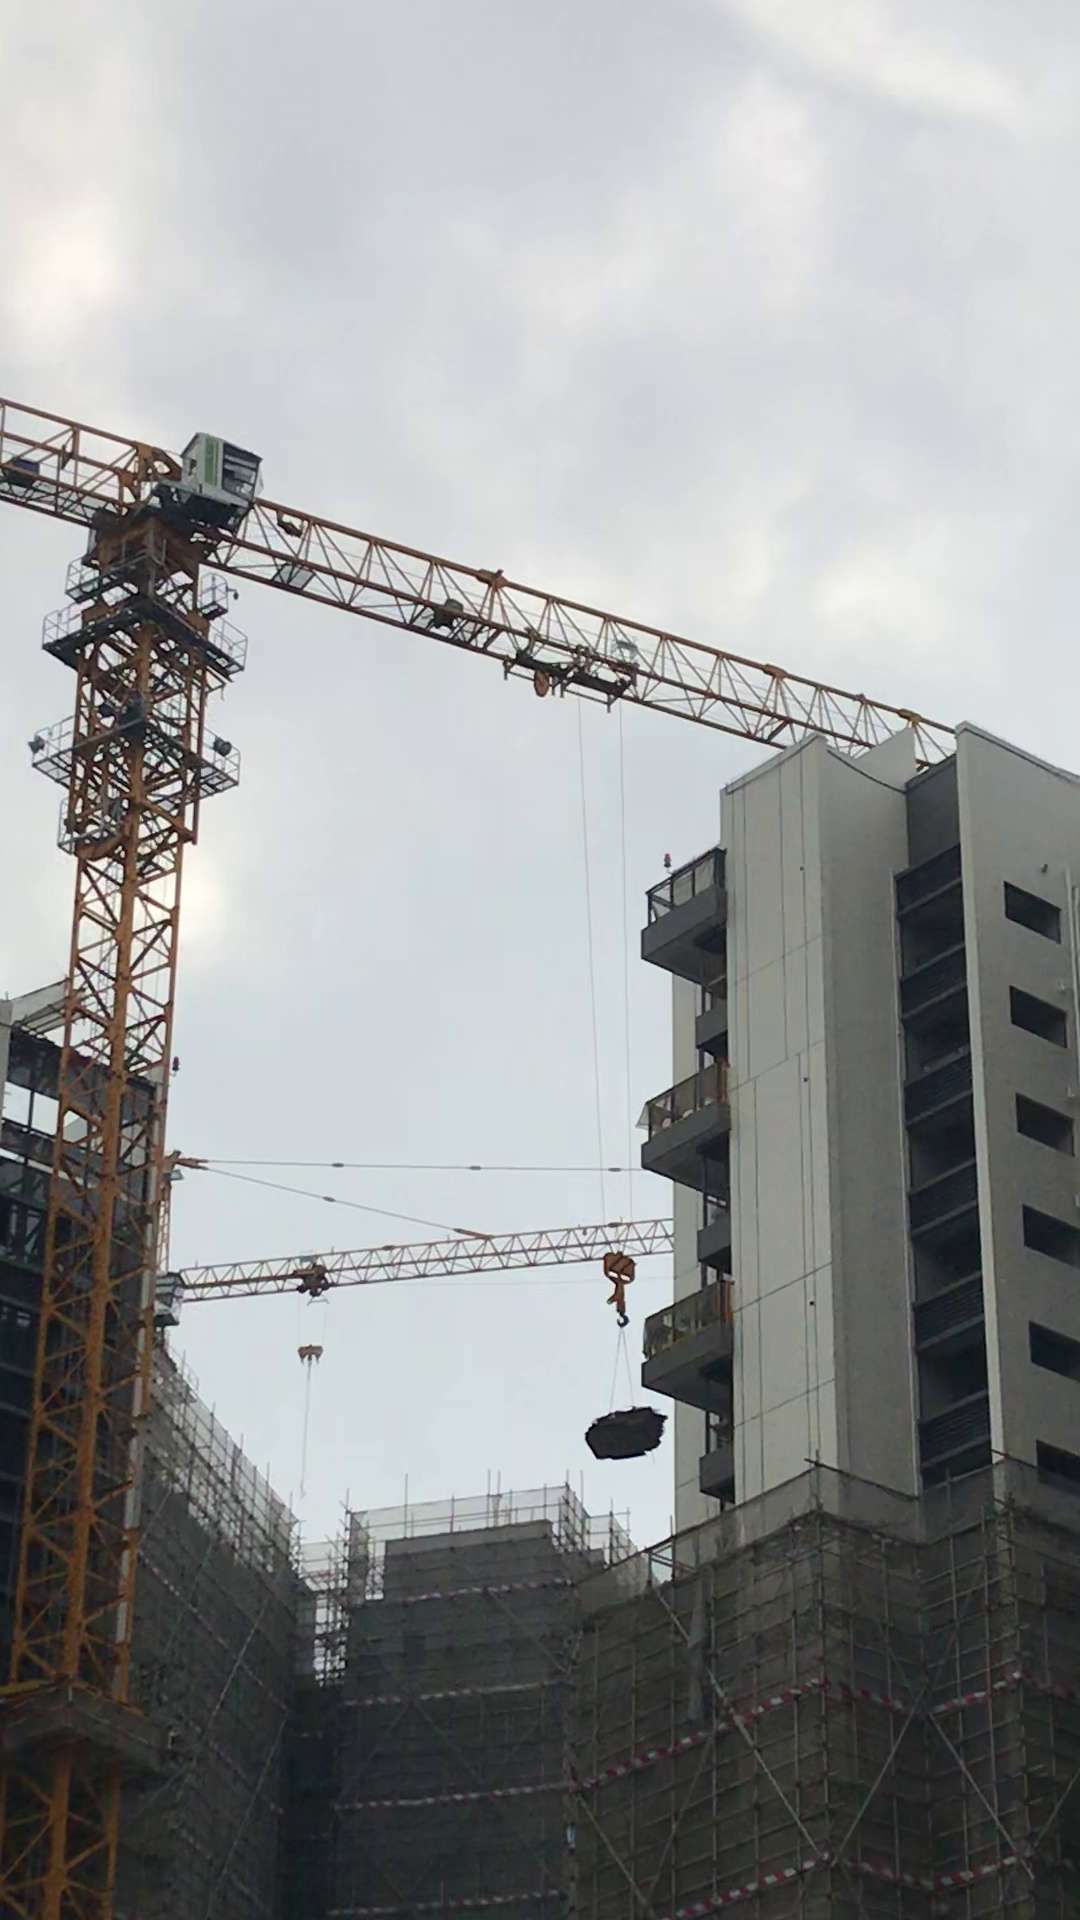hook: (589, 1250, 658, 1335), (295, 1341, 328, 1364)
